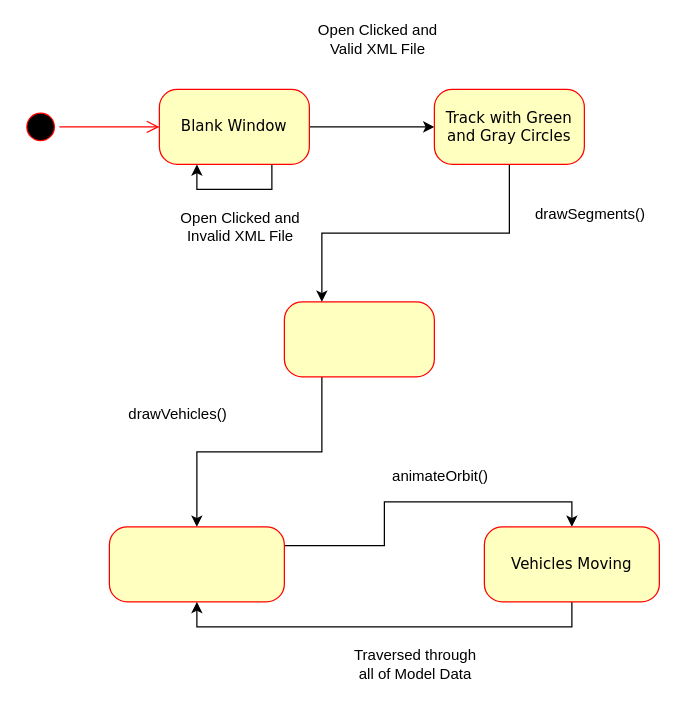
This 681x704 diagram has some shape labels left out. Each missing label, with the centre of its shape:
"Segments" belongs at pixel 358 339.
"Vehicles Stationary" belongs at pixel 196 564.
